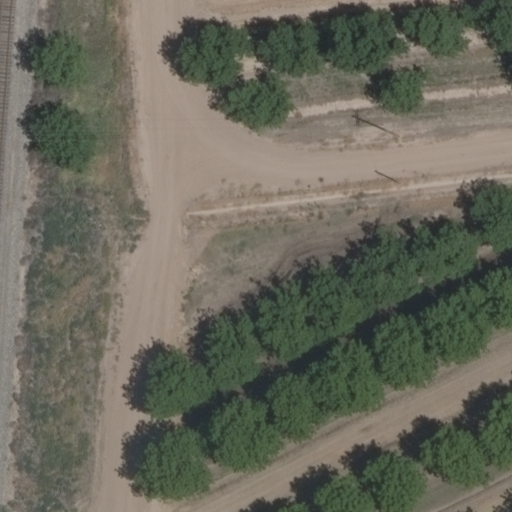DT: (383, 128, 405, 144)
